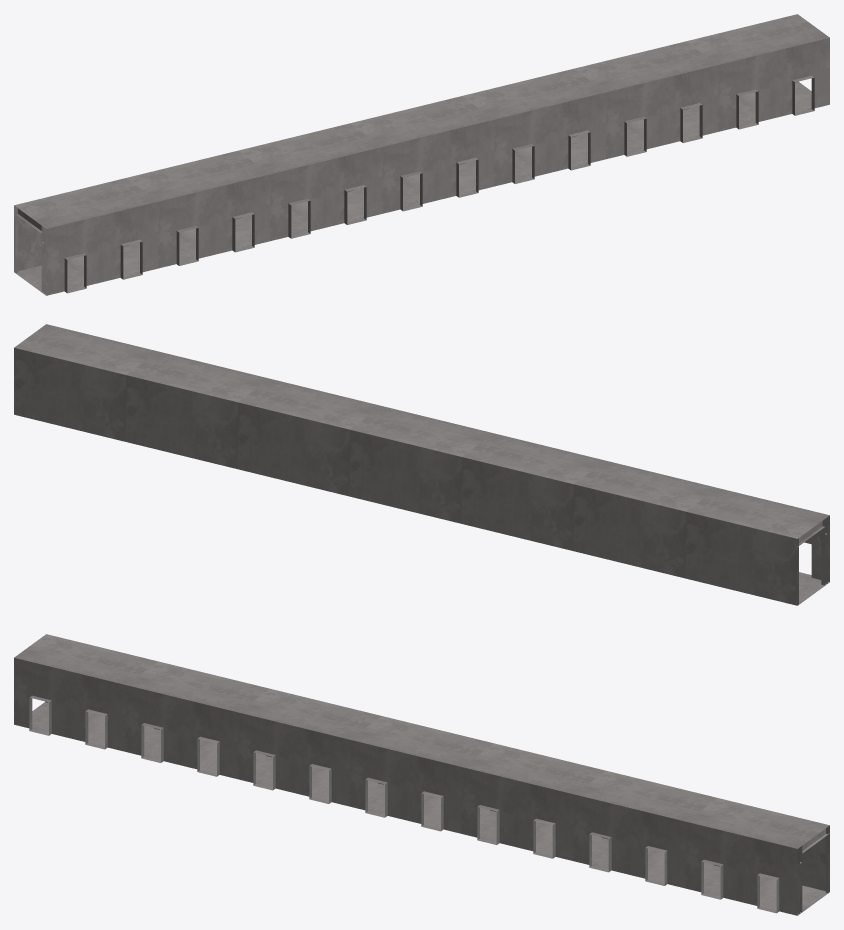
The model's file is bunke_1.glb.
The picture shows the model from 3 angles, top to bottom: view 1: azimuth 30°, elevation 25°; view 2: azimuth 150°, elevation 25°; view 3: azimuth 330°, elevation 25°; orthographic projection.
Parts seen in each view (by area): view 1: Plane; view 2: Plane; view 3: Plane.
Boxes of the visible parts, x1=… form: Plane: x1=14, y1=14, x2=829, y2=295; Plane: x1=14, y1=324, x2=829, y2=605; Plane: x1=14, y1=634, x2=829, y2=915.
Bounding box in the file's own units: 49 × 4 × 3.8.
Materials: 1 (1 with a texture image).
